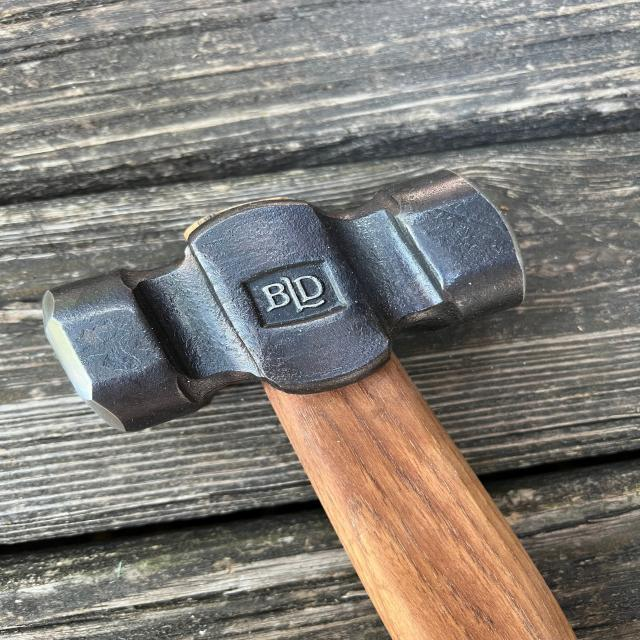hammer: (32, 163, 585, 640)
